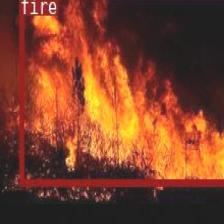fire: (18, 0, 224, 184)
